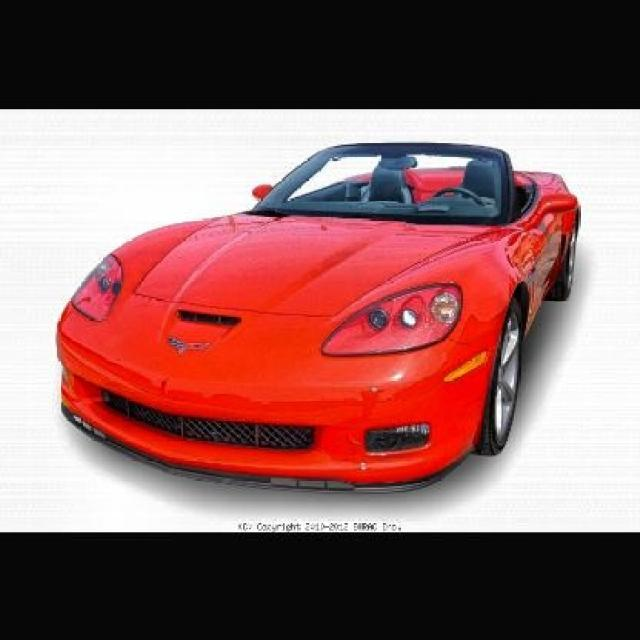red: (57, 140, 612, 474)
